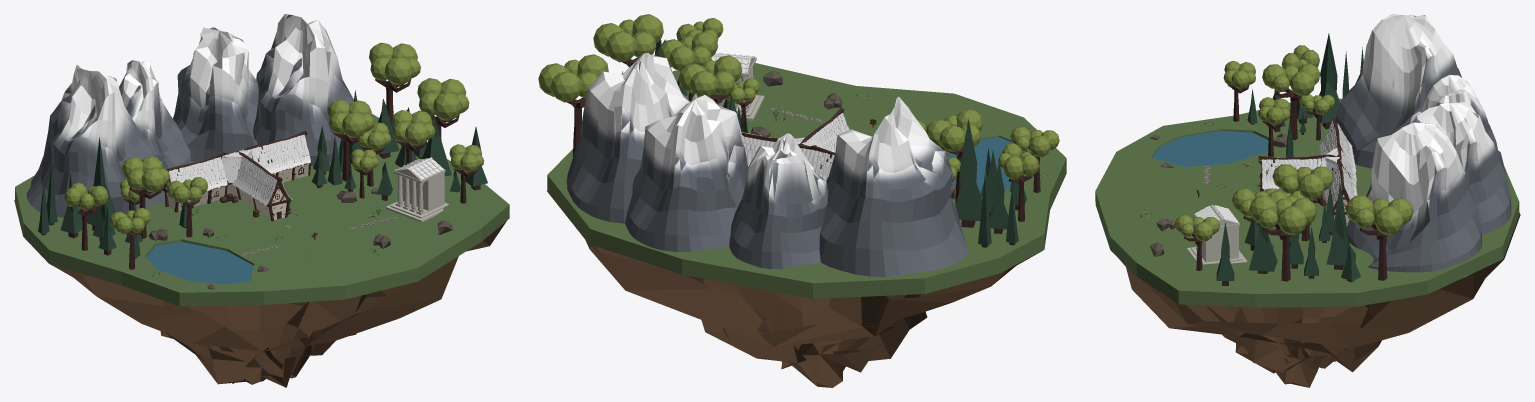
File: ProgettoUni.fbx
The picture shows the model from 3 angles, left to right: view 1: azimuth 30°, elevation 25°; view 2: azimuth 150°, elevation 25°; view 3: azimuth 270°, elevation 25°; orthographic projection. The views are drawn at different scales.
Parts seen in each view (by area): view 1: Giardino, montagna, albero, sottosoulo, mattonelle-casa, lago, corpo, assi-di-legno, Mura-magione, roccia, colonne, tetto; view 2: montagna, Giardino, sottosoulo, albero, mattonelle-casa, lago, roccia, assi-di-legno, corpo; view 3: montagna, Giardino, albero, sottosoulo, lago, mattonelle-casa, corpo, assi-di-legno, roccia, tetto.
Part boxes in pixels (bbox=[...]): Giardino: bbox=[14, 114, 509, 306]; montagna: bbox=[26, 14, 353, 217]; albero: bbox=[38, 42, 487, 269]; sottosoulo: bbox=[14, 200, 506, 387]; mattonelle-casa: bbox=[168, 134, 310, 205]; lago: bbox=[146, 242, 253, 284]; corpo: bbox=[385, 159, 448, 222]; assi-di-legno: bbox=[162, 130, 311, 221]; Mura-magione: bbox=[165, 164, 308, 219]; roccia: bbox=[148, 188, 452, 289]; colonne: bbox=[395, 174, 424, 214]; tetto: bbox=[395, 157, 444, 179]; montagna: bbox=[566, 53, 968, 277]; Giardino: bbox=[547, 63, 1066, 298]; sottosoulo: bbox=[547, 190, 1040, 387]; albero: bbox=[538, 14, 1059, 247]; mattonelle-casa: bbox=[741, 113, 849, 180]; lago: bbox=[947, 137, 1025, 192]; roccia: bbox=[751, 70, 955, 199]; assi-di-legno: bbox=[741, 108, 845, 168]; corpo: bbox=[712, 55, 764, 120]; montagna: bbox=[1336, 14, 1511, 278]; Giardino: bbox=[1095, 98, 1519, 307]; albero: bbox=[1174, 33, 1413, 285]; sottosoulo: bbox=[1119, 212, 1520, 387]; lago: bbox=[1152, 130, 1268, 166]; mattonelle-casa: bbox=[1261, 121, 1357, 206]; corpo: bbox=[1186, 205, 1247, 264]; assi-di-legno: bbox=[1258, 118, 1354, 217]; roccia: bbox=[1150, 133, 1287, 256]; tetto: bbox=[1195, 205, 1238, 223].
Bounding box in the file's own units: 14827 × 10720 × 13518.
